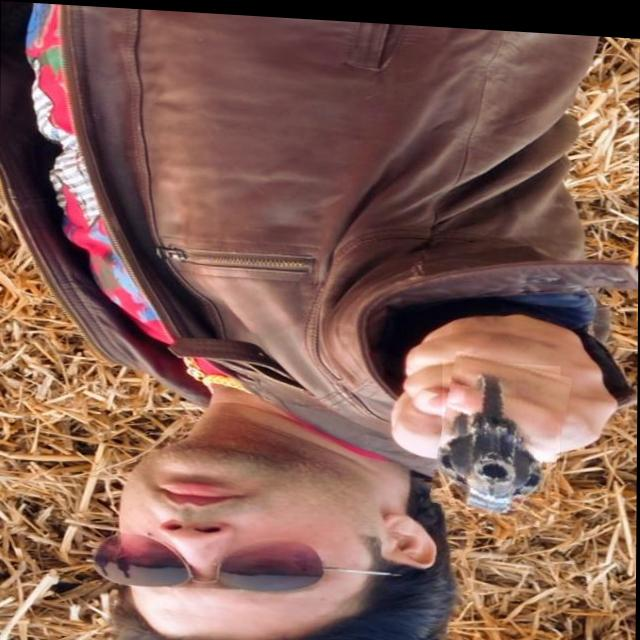handgun: (435, 348, 567, 518)
